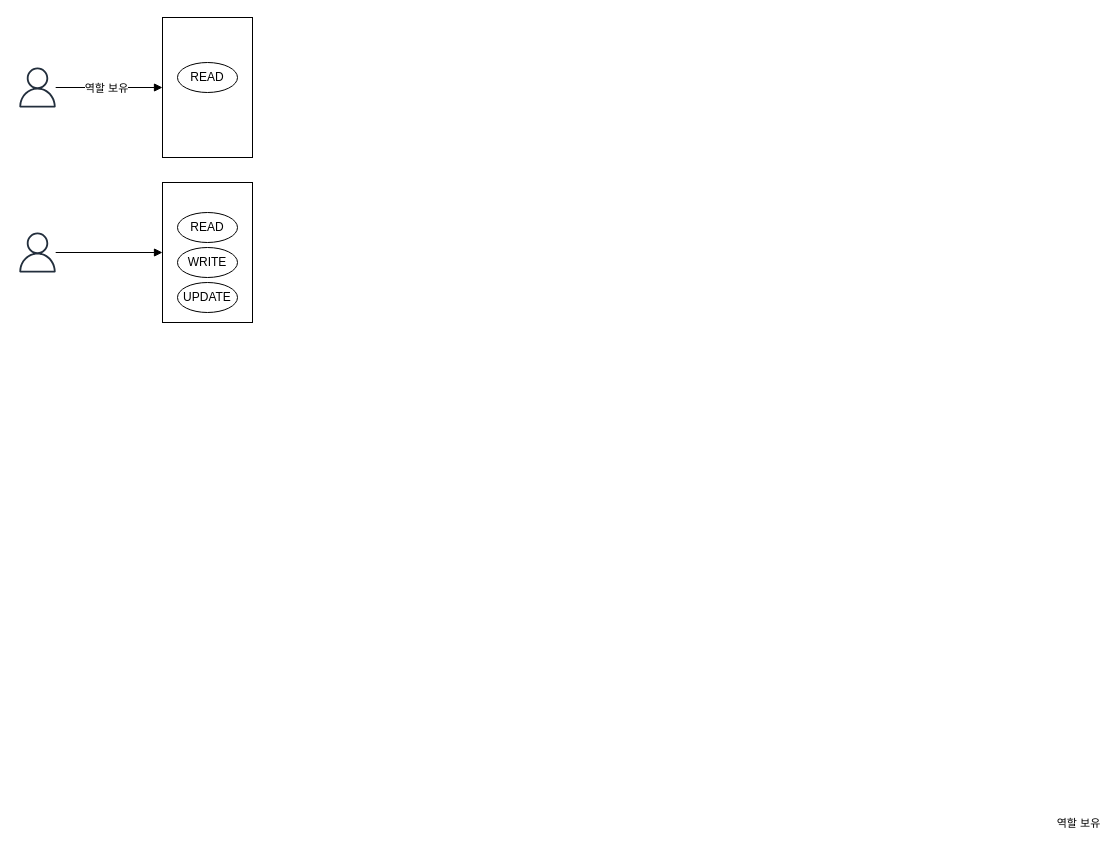
Image size: 1117x847. Some labels were removed from this diagram. Here are the shapes that lost their labels. From the top down, the box of each, then its label:
(162, 16, 252, 158): Manager
(162, 182, 252, 322): Admin
